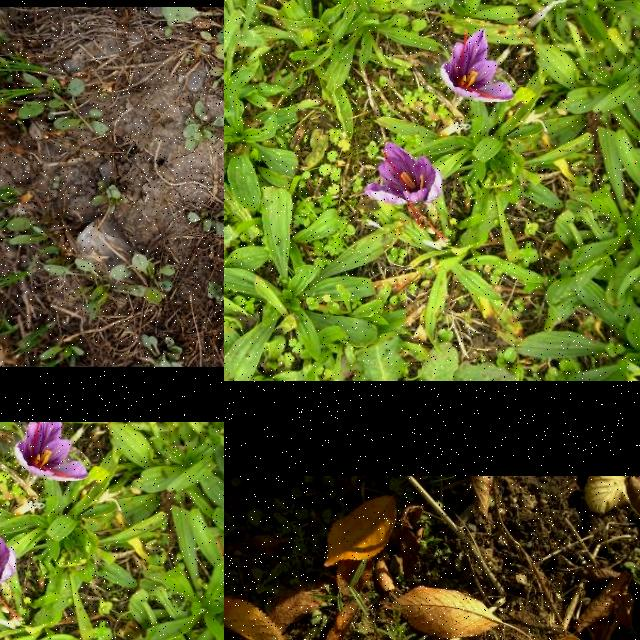flower: (365, 142, 445, 240), (440, 27, 514, 102), (13, 422, 88, 480), (0, 520, 19, 619)
